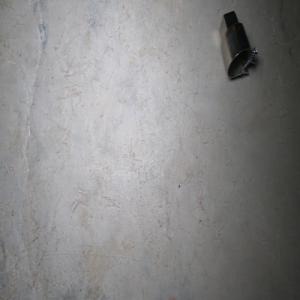MetalPart: (218, 9, 257, 78)
